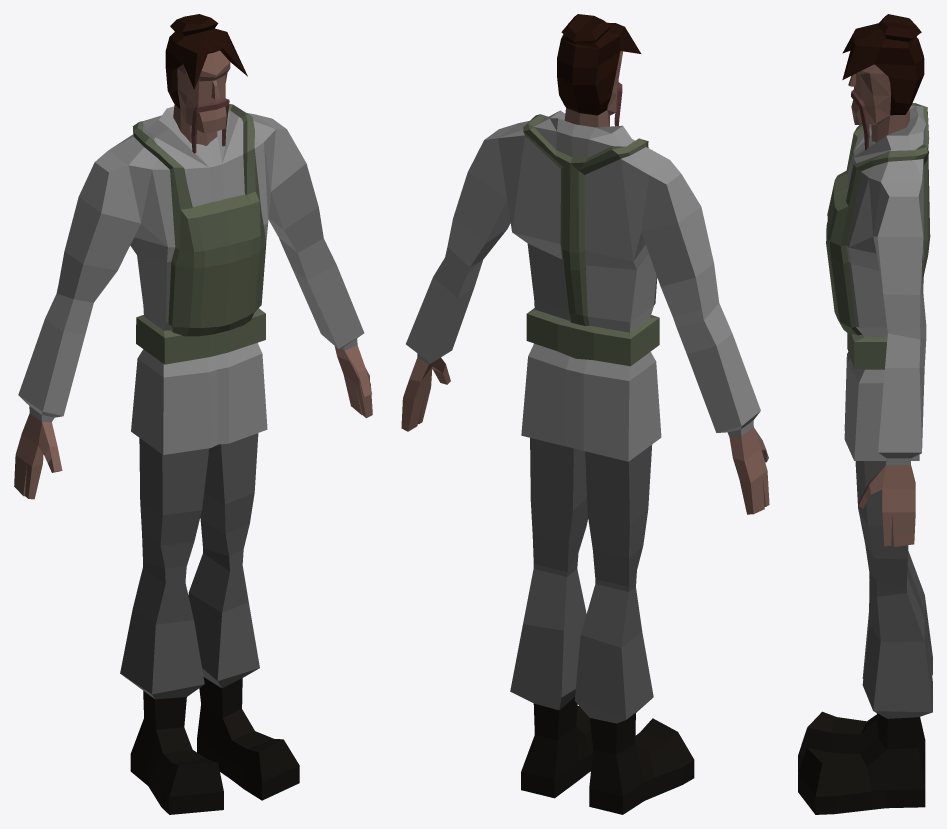
File: hum2.FBX
3 renders of one model, left to right at view 1: azimuth 30°, elevation 25°; view 2: azimuth 150°, elevation 25°; view 3: azimuth 270°, elevation 25°, orthographic. The views are drawn at different scales.
Visible parts, largest first — view 1: Head 8; view 2: Head 8; view 3: Head 8.
Part boxes in pixels (box(x1,y1,x2,y2)): Head 8: box(14, 14, 372, 814); Head 8: box(401, 14, 769, 814); Head 8: box(798, 14, 932, 814).
Size of the model in its own units: 34.74 by 72.35 by 11.58.
